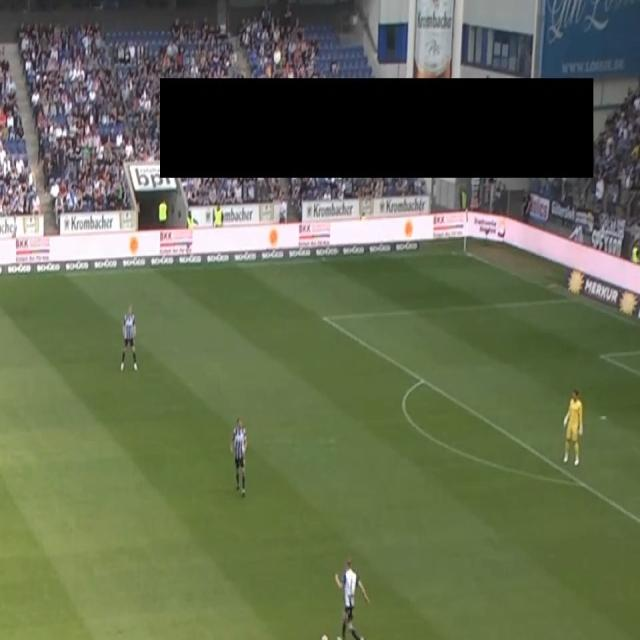ball: (320, 631, 328, 640)
